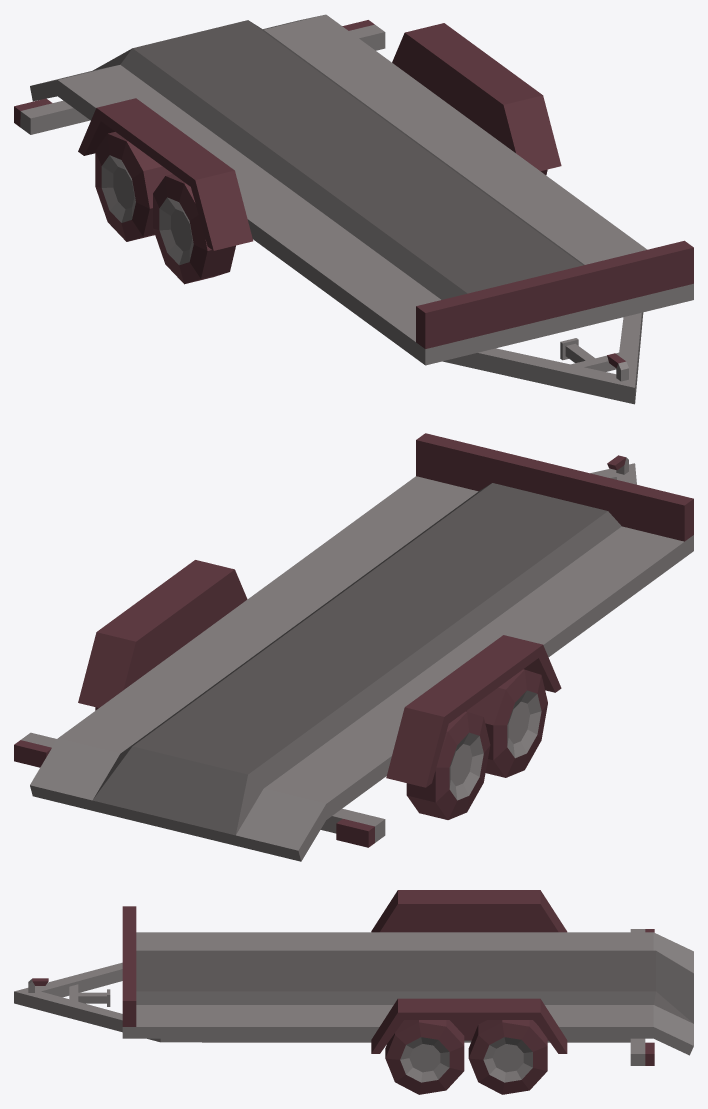
The model's file is car-trailer-big.fbx.
3 renders of one model, top to bottom at view 1: azimuth 30°, elevation 25°; view 2: azimuth 150°, elevation 25°; view 3: azimuth 270°, elevation 25°, orthographic. The views are drawn at different scales.
Visible parts, largest first — view 1: car-trailer-big-base, car-trailer-big-wheel_BR, car-trailer-big-wheel_FR; view 2: car-trailer-big-base, car-trailer-big-wheel_FR, car-trailer-big-wheel_BR; view 3: car-trailer-big-base, car-trailer-big-wheel_BL, car-trailer-big-wheel_FL.
Part boxes in pixels (x1,y1,x2,y2): car-trailer-big-base: [14, 14, 693, 404]; car-trailer-big-wheel_BR: [95, 132, 172, 241]; car-trailer-big-wheel_FR: [153, 174, 235, 284]; car-trailer-big-base: [14, 433, 693, 861]; car-trailer-big-wheel_FR: [467, 669, 547, 777]; car-trailer-big-wheel_BR: [406, 711, 490, 819]; car-trailer-big-base: [14, 890, 693, 1065]; car-trailer-big-wheel_BL: [468, 1020, 547, 1094]; car-trailer-big-wheel_FL: [385, 1020, 464, 1094].
Size of the model in its own units: 2.61 by 0.8141 by 6.
